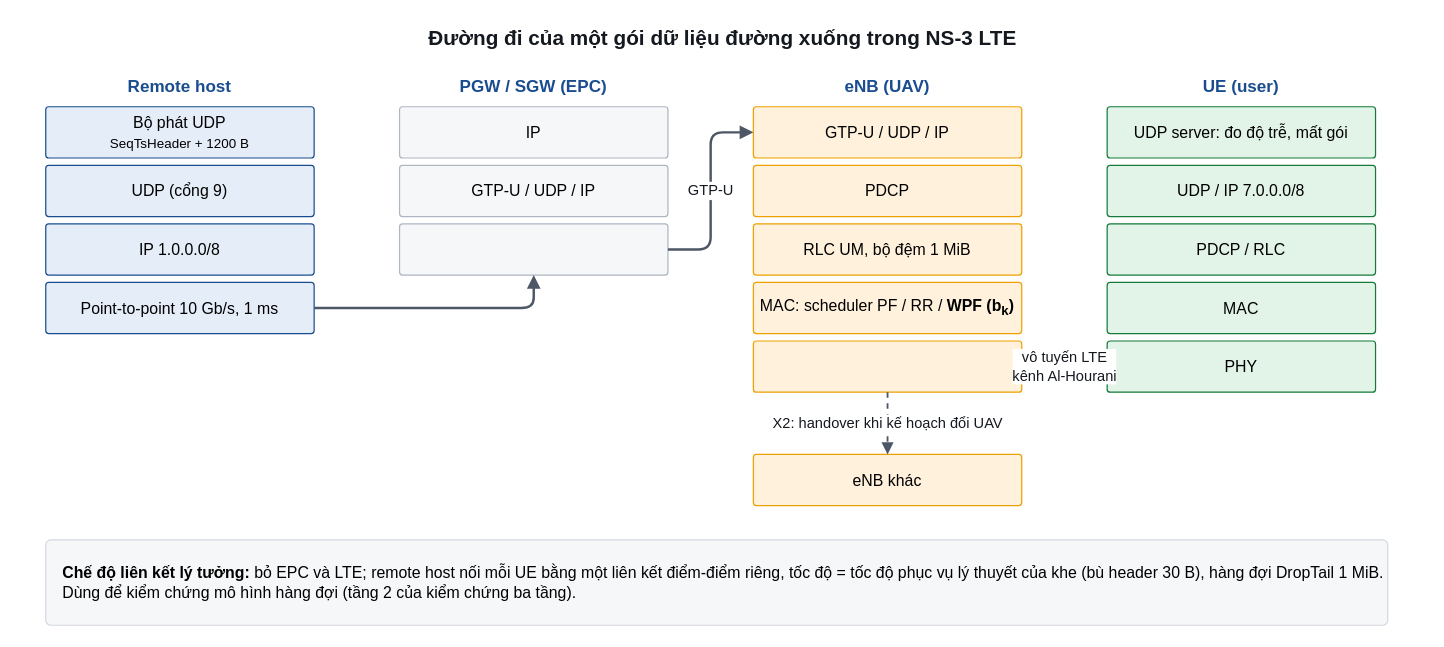
Some shapes in this 1444 by 647 pixel diagram are drawn without their labels. Each missing label, with the centre of its shape:
"PHY: AMC, HARQ" goes at [887,366].
"Point-to-point (S1-U)" goes at [533,249].
